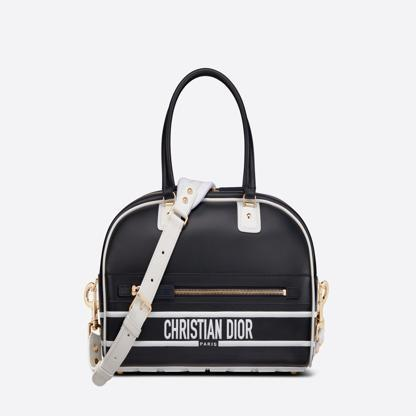not trash: (81, 59, 332, 383)
